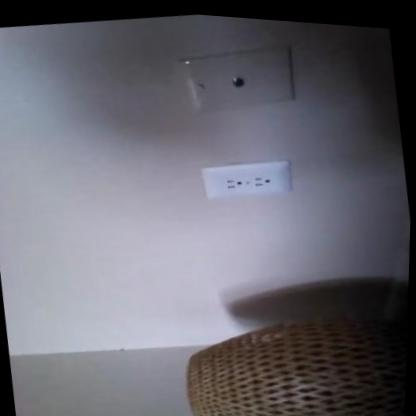OUTLET: (197, 153, 294, 206)
